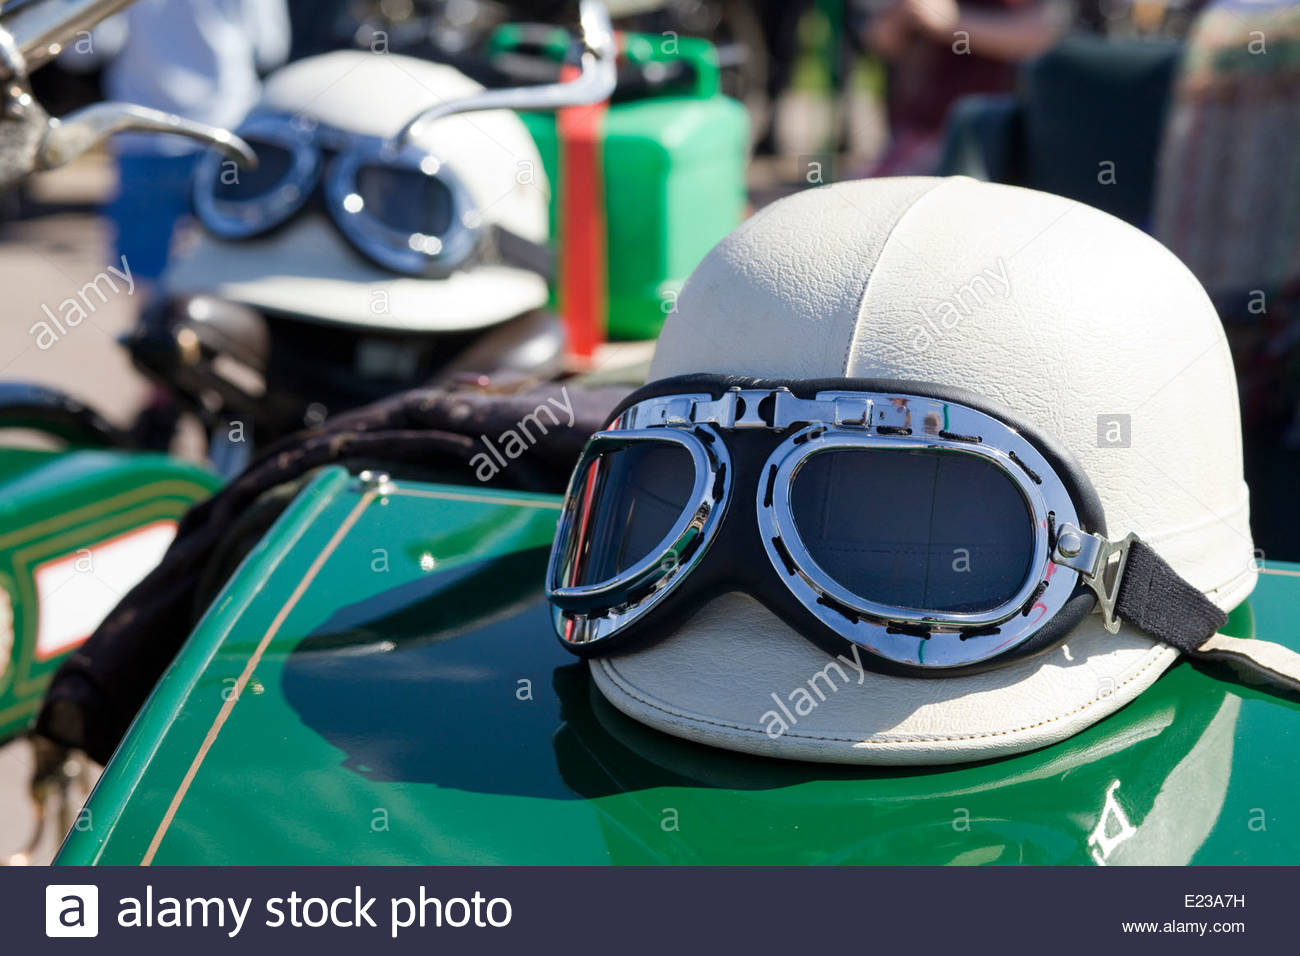with_helmet: (581, 171, 1249, 725)
